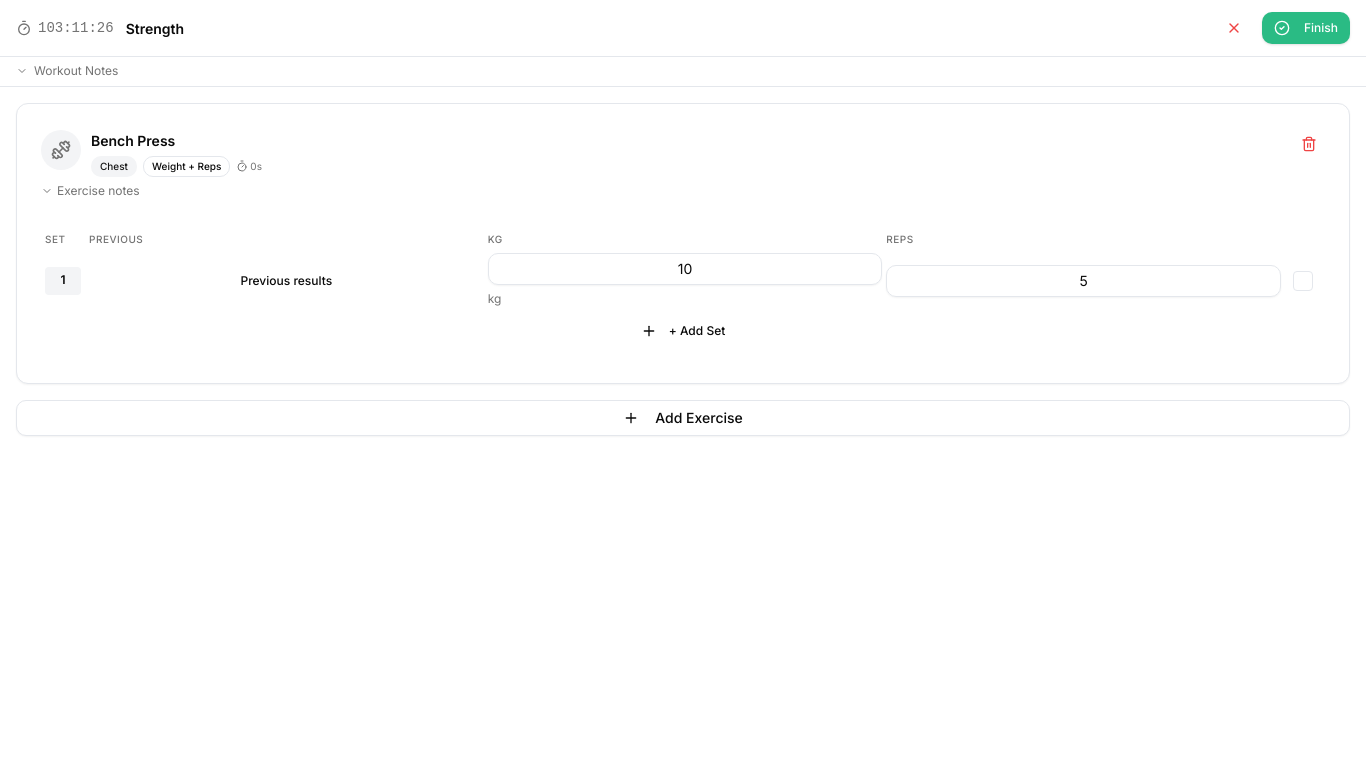
Test: WorkoutLogger measurement writes through the actual SWR hook › copies only selected prior measurements and preserves unfinished state through retry
Click the button "Previous results" at x=286, y=281, box [89,273,484,289]
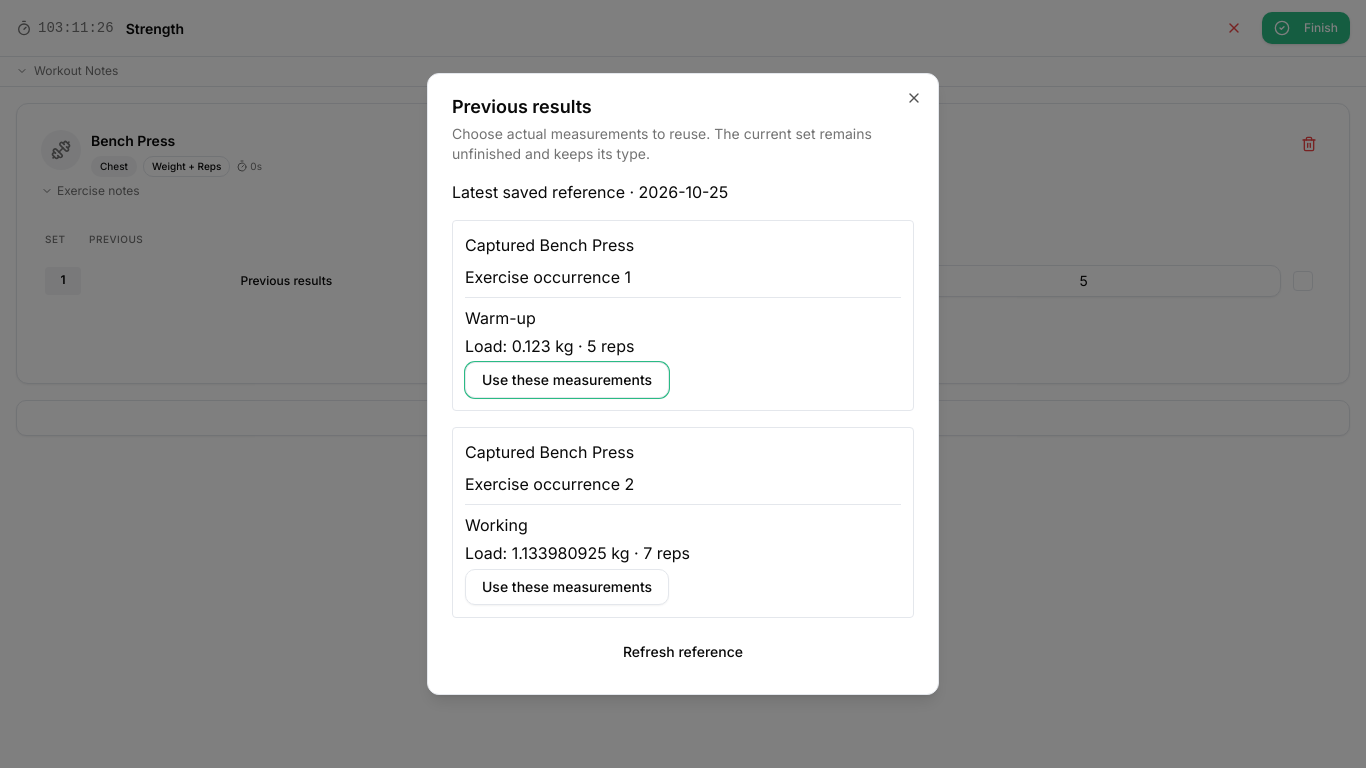
Expected: the number of headings "Captured Bench Press" is 2, [465,235,634,255]; [465,442,634,462]
Expected: the text "Warm-up" is shown, [465,308,536,328]
Click the button "Refresh reference" at x=683, y=652, box [452,634,914,670]
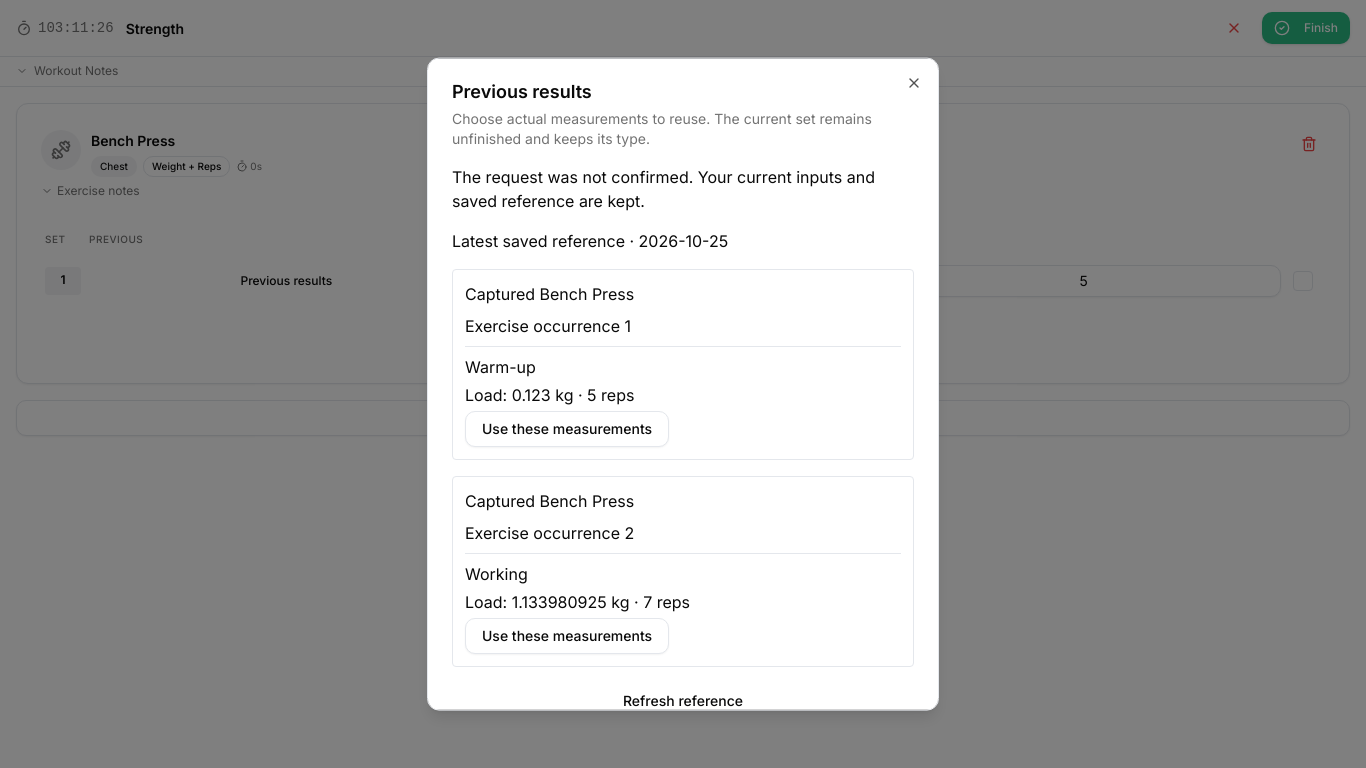
Expected: the number of headings "Captured Bench Press" is 2, [465,284,634,304]; [465,491,634,511]
Expected: the message is shown, [452,165,914,213]
Click the button "Use these measurements" below "Load: 0.123 kg · 5 reps" at x=567, y=429, box [465,411,669,447]
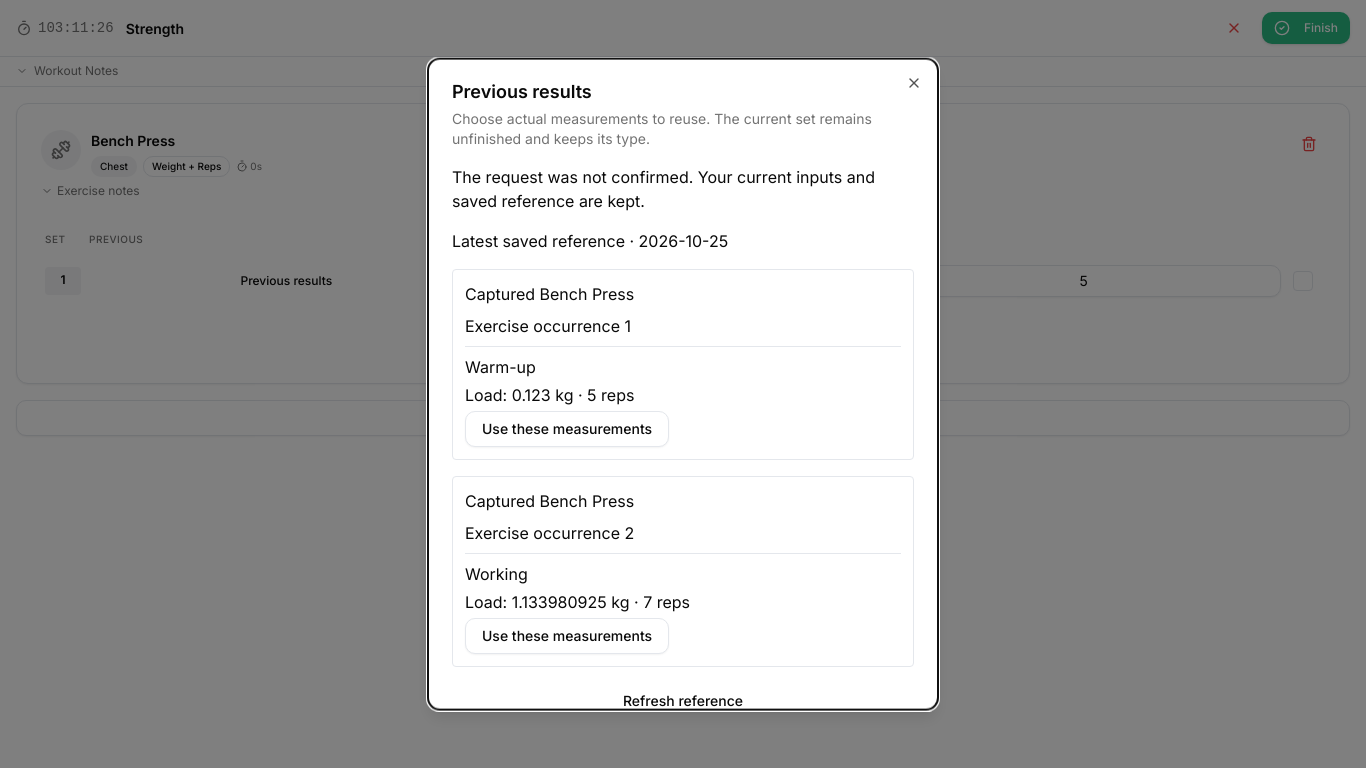
Expected: the message is shown, [452,165,914,213]
Click the button "Use these measurements" below "Load: 0.123 kg · 5 reps" at x=567, y=429, box [465,411,669,447]
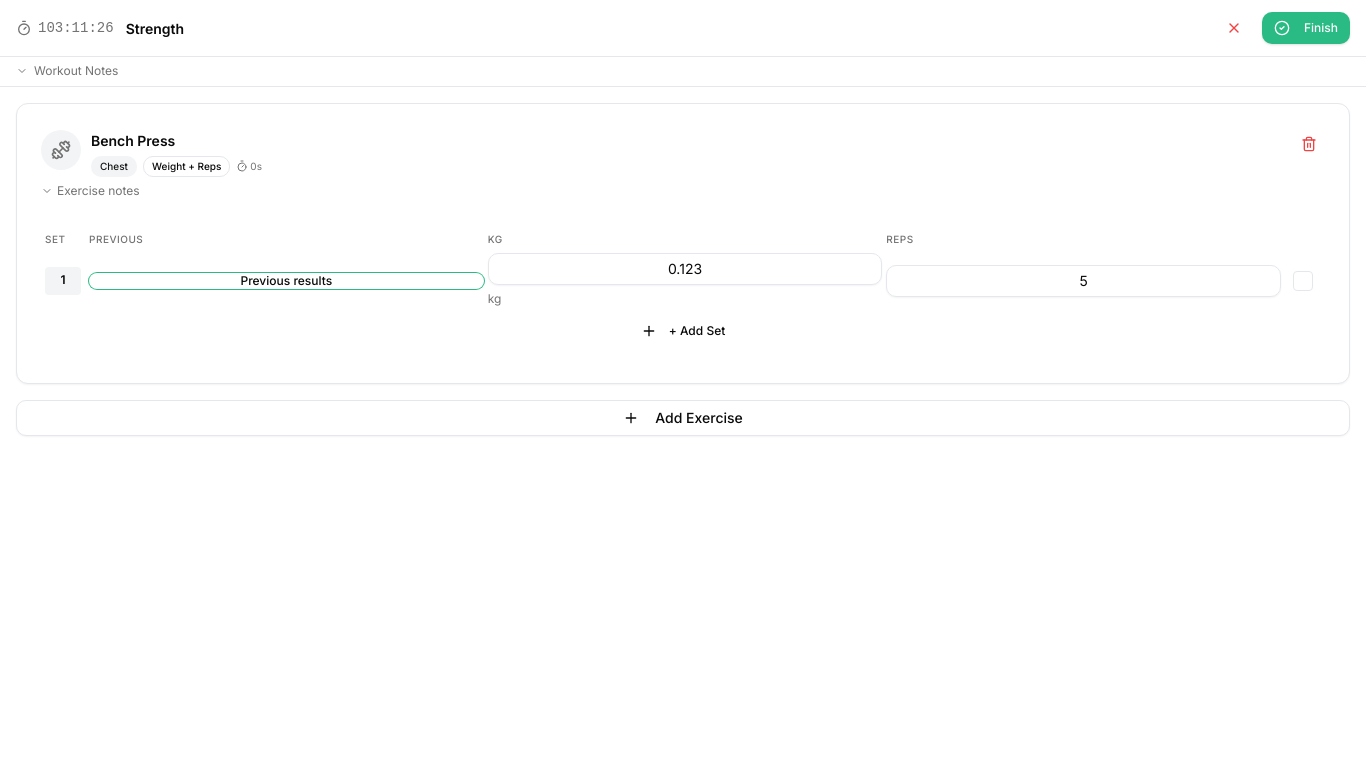
Expected: the checkbox named "Complete" is not checked, [1293,271,1313,291]
Expected: the dialog is gone
Expected: the field named "Weight (kg)" holds "0.123", [488,253,882,285]
